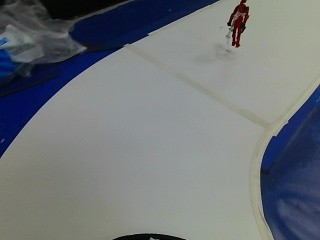pedestrian: (226, 0, 252, 47)
